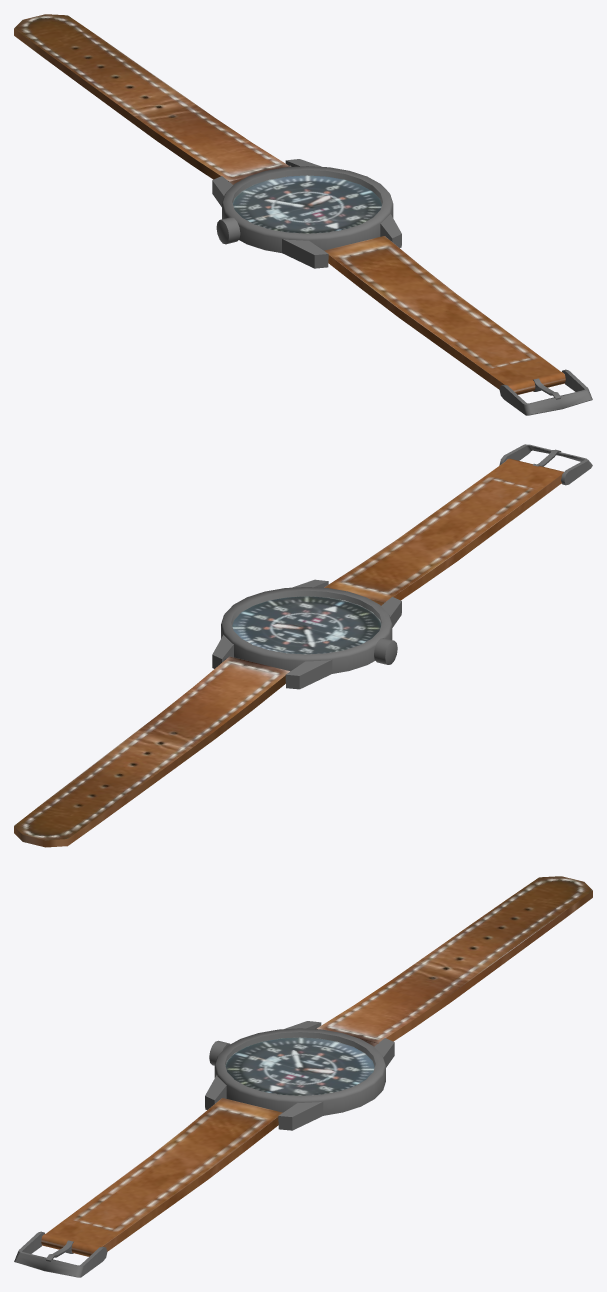
File: watch_475.glb
3 views of the same model, one above another, from view 1: azimuth 30°, elevation 25°; view 2: azimuth 150°, elevation 25°; view 3: azimuth 330°, elevation 25° (orthographic).
Parts seen in each view (by area): view 1: Object_2, Object_6, Object_3, Object_4; view 2: Object_2, Object_6, Object_3, Object_4; view 3: Object_2, Object_6, Object_3, Object_4.
Part boxes in pixels (box(x1,y1,x2,y2)): Object_2: box(14, 14, 565, 394); Object_6: box(212, 159, 592, 415); Object_3: box(233, 170, 382, 232); Object_4: box(232, 175, 381, 233); Object_2: box(14, 458, 563, 847); Object_6: box(212, 444, 592, 689); Object_3: box(232, 591, 381, 653); Object_4: box(232, 596, 381, 654); Object_2: box(41, 876, 592, 1256); Object_6: box(14, 1021, 394, 1277); Object_3: box(225, 1032, 374, 1095); Object_4: box(225, 1037, 374, 1095).
Size of the model in its own units: 4.27 by 0.6078 by 24.34.
5 materials, 3 textured.
